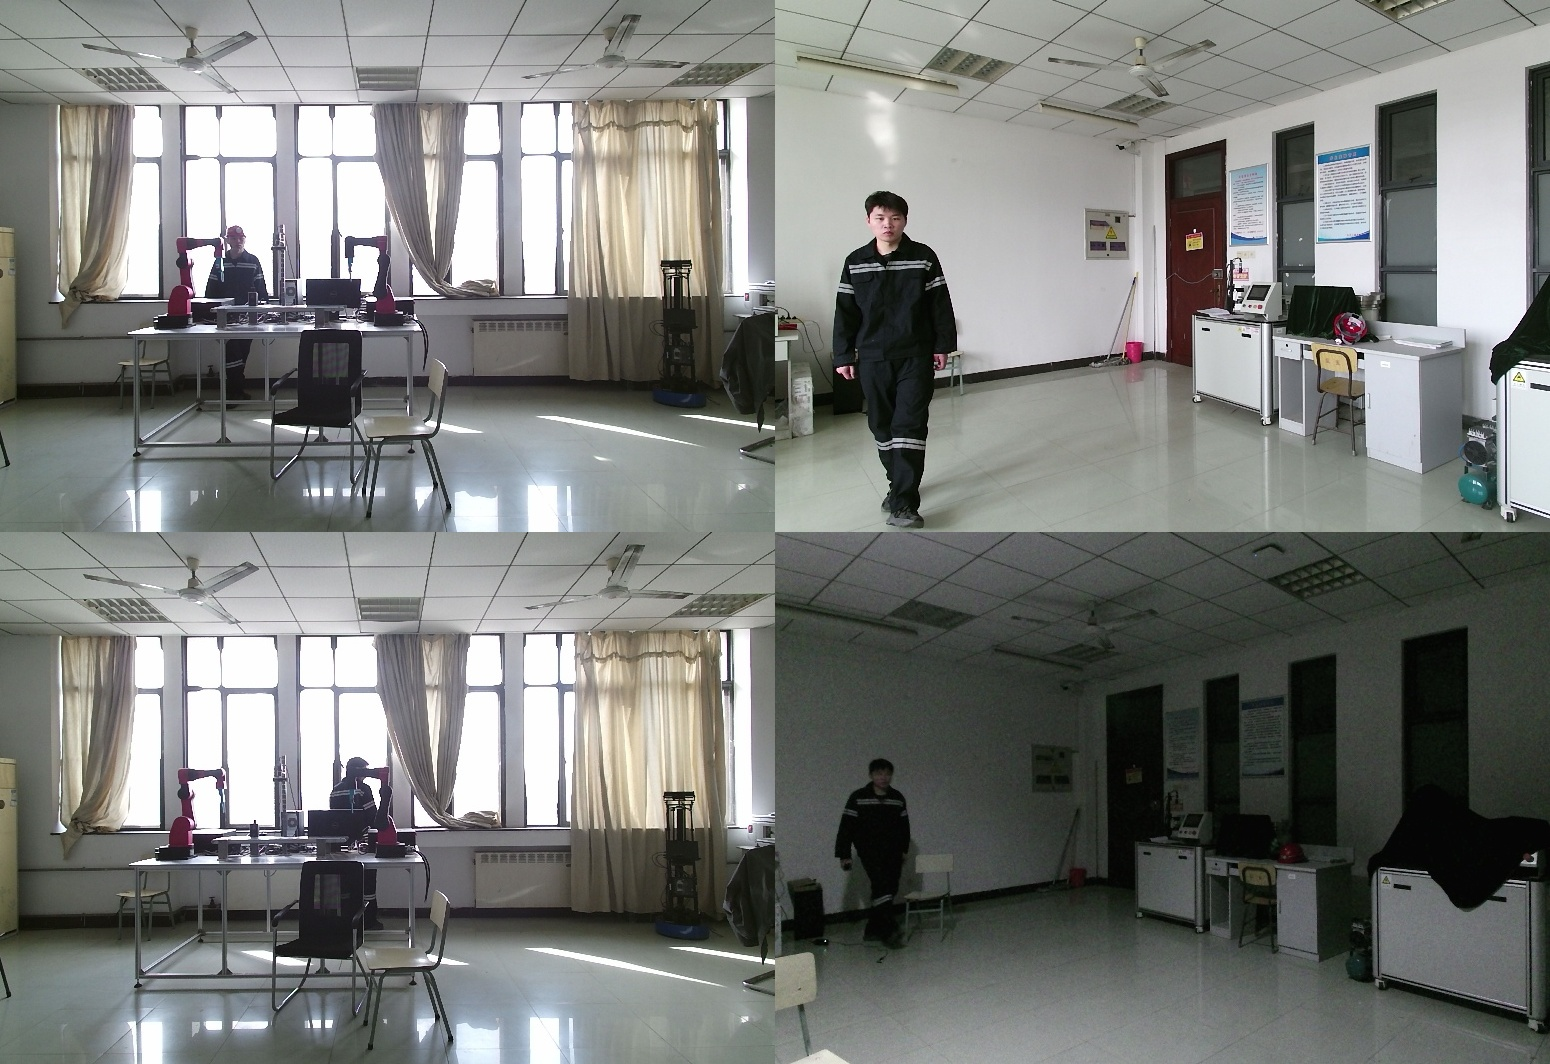person: (830, 188, 964, 532), (832, 760, 911, 942), (204, 226, 268, 409), (332, 758, 392, 935)
